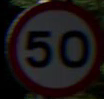Speed limit: (9, 4, 95, 89)
